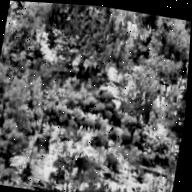boar: (105, 120, 129, 146), (92, 115, 112, 140), (93, 85, 115, 107), (77, 114, 98, 137), (88, 95, 108, 118), (71, 112, 84, 130)
